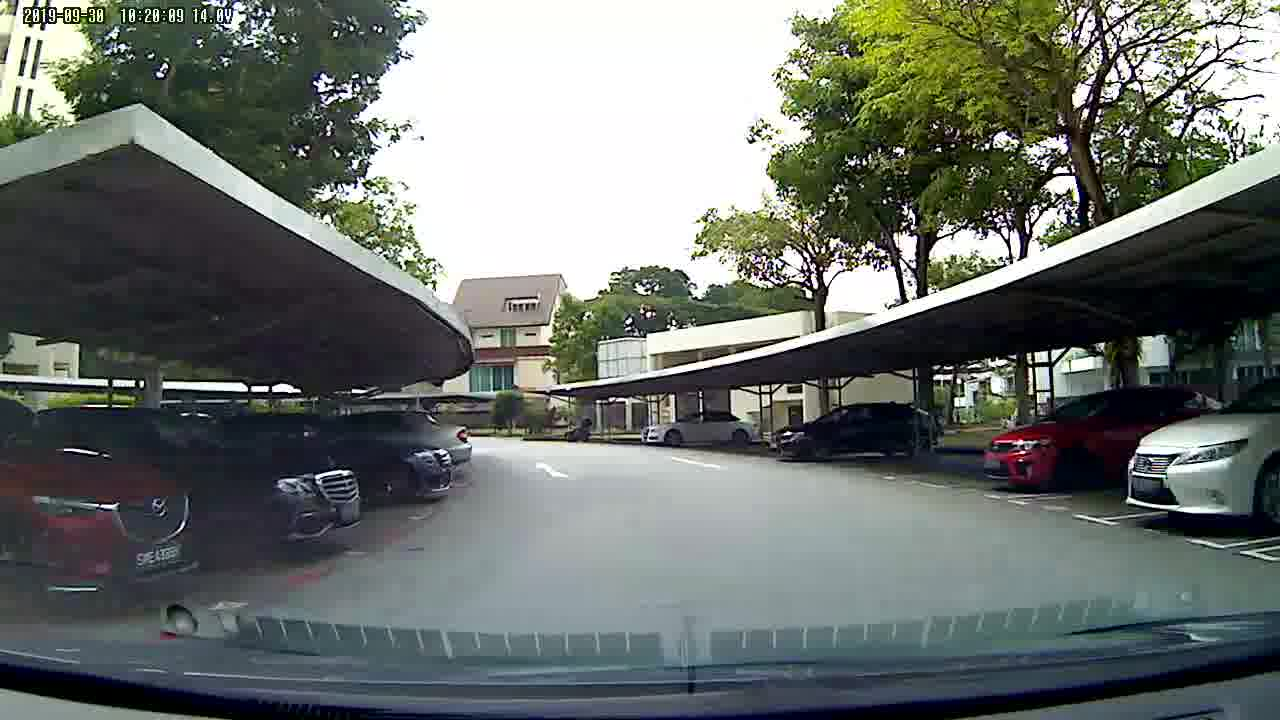car: (1, 390, 212, 622), (1131, 374, 1280, 528), (972, 387, 1125, 498), (770, 398, 946, 473), (633, 405, 761, 460)
